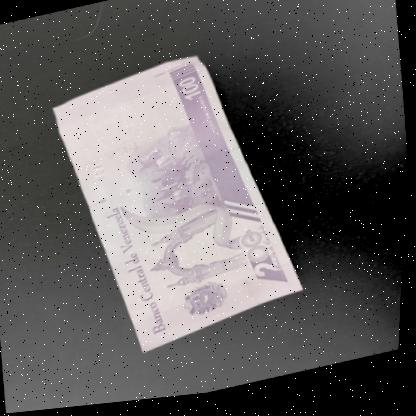one_hundred-back-vef: (41, 37, 318, 373)
